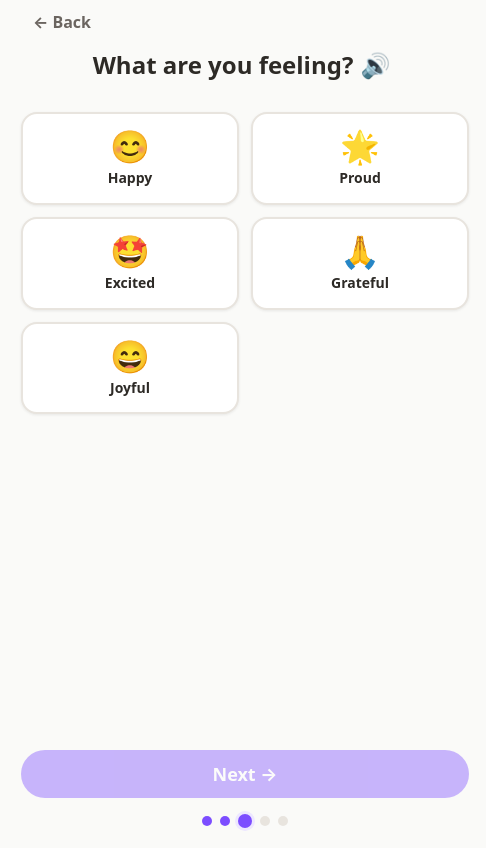
Test case: NameIt › Next button is disabled until an emotion card is selected
The width and height of the screenshot is (486, 848).
Expected: the button "Next →" is disabled, 21,750 -> 469,798
# Select Happy
Click the button "😊 Happy": (130, 158) 21,112 -> 239,205
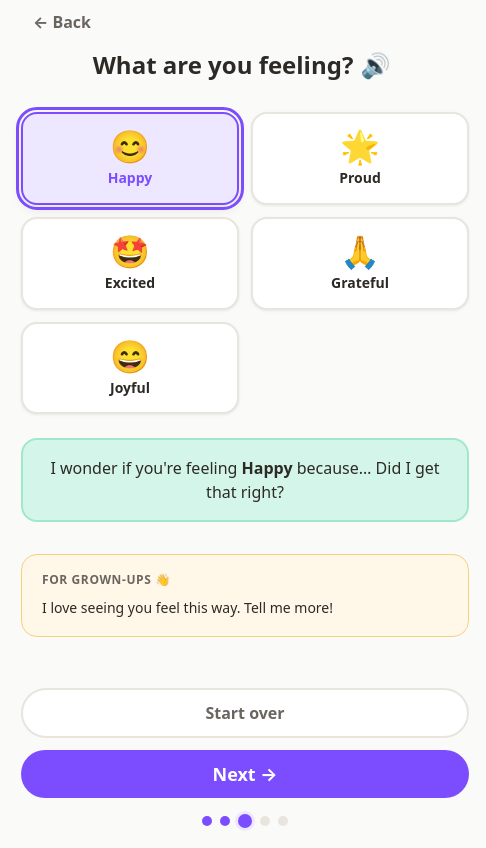
Now the button "Next →" is enabled, box 21,750 -> 469,798
